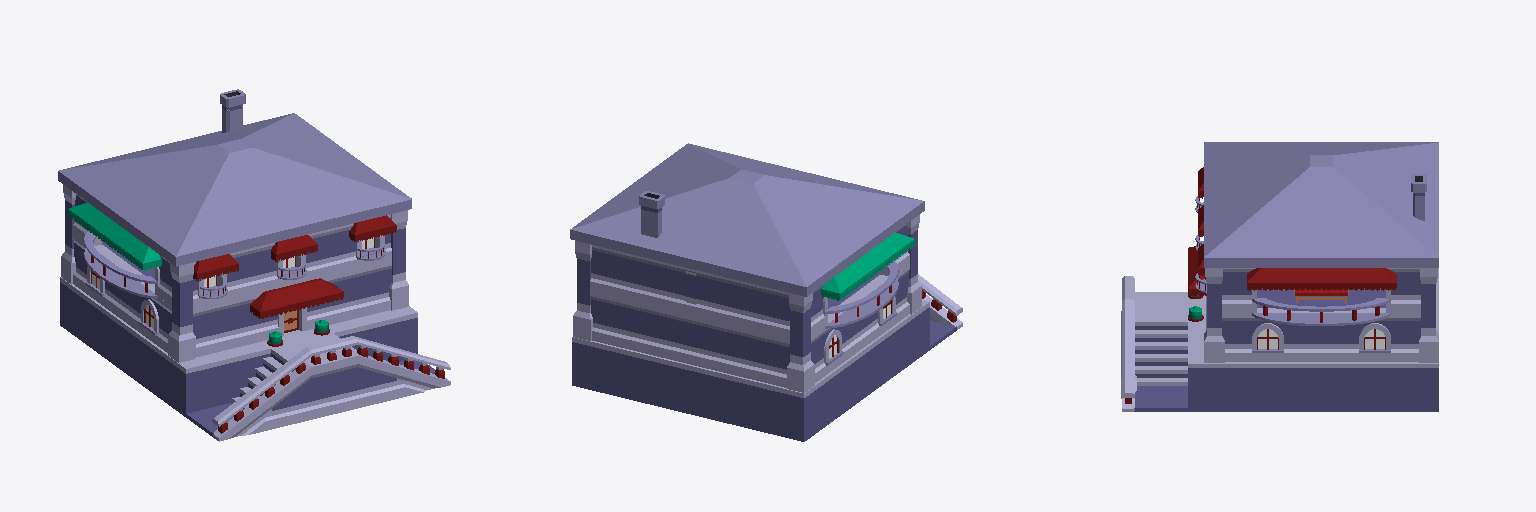
Rendered from Building2.obj.
3 views of the same model, side by side, from view 1: azimuth 30°, elevation 25°; view 2: azimuth 150°, elevation 25°; view 3: azimuth 270°, elevation 25° (orthographic).
Visible parts, largest first — view 1: roof_point, wall, floor, column, wall_window, barrier_diagonal, awning, wall_diagonal, awning_corner, balcony_round, wall_half_diagonal, barrier (+5 smaller); view 2: roof_point, wall, floor, column, wall_window, balcony_round, awning, barrier_diagonal, awning_corner, chimney_top, roof_flatCenter; view 3: roof_point, floor, wall, wall_window, stairs, column, awning, roof_flatCenter, balcony_round, awning_corner, barrier_diagonal, wall_gate_side (+1 smaller).
Boxes of the visible parts, x1=… form: roof_point: x1=58, y1=113, x2=411, y2=266; wall: x1=73, y1=194, x2=391, y2=419; floor: x1=60, y1=277, x2=417, y2=416; column: x1=61, y1=185, x2=408, y2=362; wall_window: x1=82, y1=214, x2=391, y2=347; barrier_diagonal: x1=212, y1=336, x2=450, y2=440; awning: x1=79, y1=205, x2=386, y2=314; wall_diagonal: x1=265, y1=359, x2=404, y2=430; awning_corner: x1=68, y1=202, x2=396, y2=318; balcony_round: x1=84, y1=231, x2=384, y2=298; wall_half_diagonal: x1=219, y1=372, x2=449, y2=441; barrier: x1=305, y1=336, x2=357, y2=369; roof_point: x1=570, y1=143, x2=924, y2=296; wall: x1=590, y1=224, x2=909, y2=387; floor: x1=572, y1=300, x2=929, y2=441; column: x1=573, y1=215, x2=921, y2=392; wall_window: x1=819, y1=275, x2=900, y2=378; balcony_round: x1=825, y1=261, x2=898, y2=328; awning: x1=839, y1=235, x2=903, y2=292; barrier_diagonal: x1=918, y1=274, x2=962, y2=329; awning_corner: x1=821, y1=232, x2=914, y2=300; chimney_top: x1=639, y1=191, x2=664, y2=223; roof_flatCenter: x1=828, y1=271, x2=956, y2=349; roof_point: x1=1204, y1=142, x2=1438, y2=267; floor: x1=1135, y1=268, x2=1438, y2=411; wall: x1=1121, y1=268, x2=1436, y2=361; wall_window: x1=1206, y1=284, x2=1401, y2=361; stairs: x1=1135, y1=292, x2=1187, y2=385; column: x1=1204, y1=268, x2=1438, y2=362; awning: x1=1188, y1=169, x2=1374, y2=290; roof_flatCenter: x1=1134, y1=288, x2=1385, y2=411; balcony_round: x1=1195, y1=196, x2=1390, y2=325; awning_corner: x1=1188, y1=167, x2=1396, y2=295; barrier_diagonal: x1=1122, y1=299, x2=1134, y2=411; wall_gate_side: x1=1241, y1=268, x2=1401, y2=312.
Bounding box in the file's own units: 5.78 × 4.1 × 5.95.